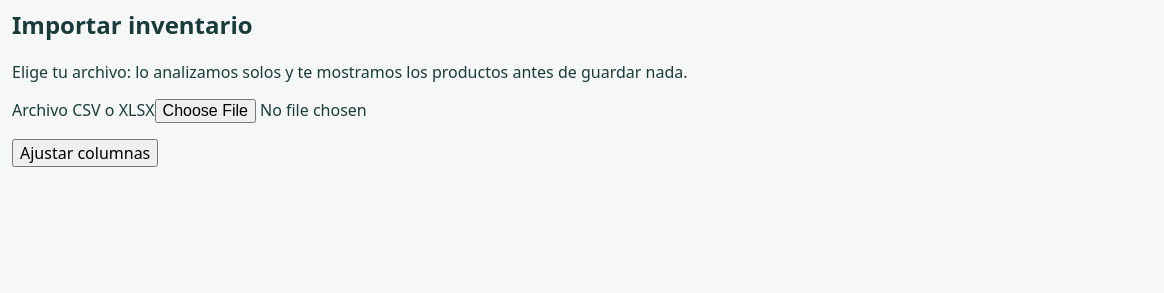
F02.1 (enmienda 2026-11-25): importación en un paso › analiza solo y pide la vista previa sin botón «Analizar», sin plantilla y sin formulario de columnas visible
Earlier steps of the test are not shown.
Click the button "Ajustar columnas" at coordinates (85, 153), box top-left (12, 139), bottom-right (158, 167)
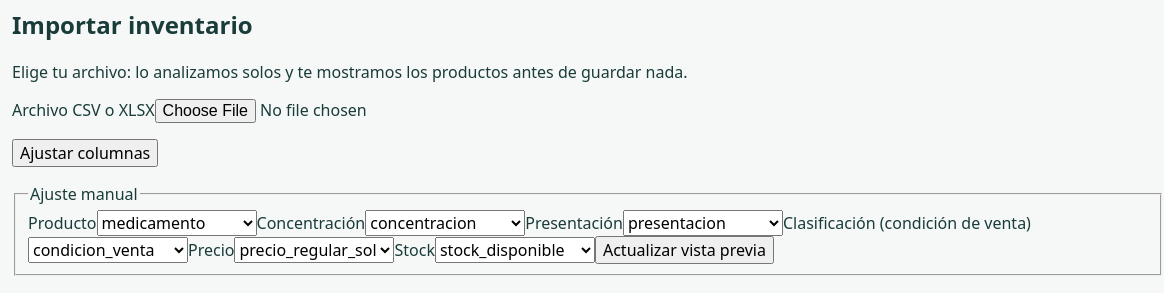
Expected: the dropdown labelled "Stock" shows "stock_disponible", top-left (435, 237), bottom-right (595, 263)
